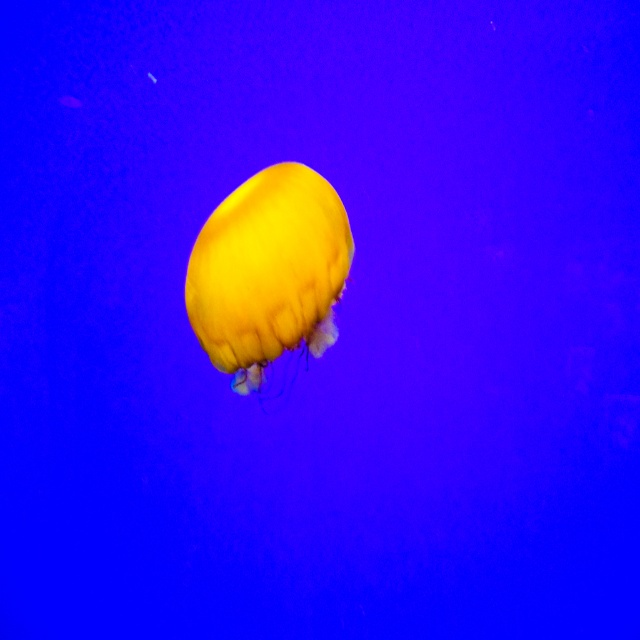Jellyfish: (185, 155, 360, 416)
